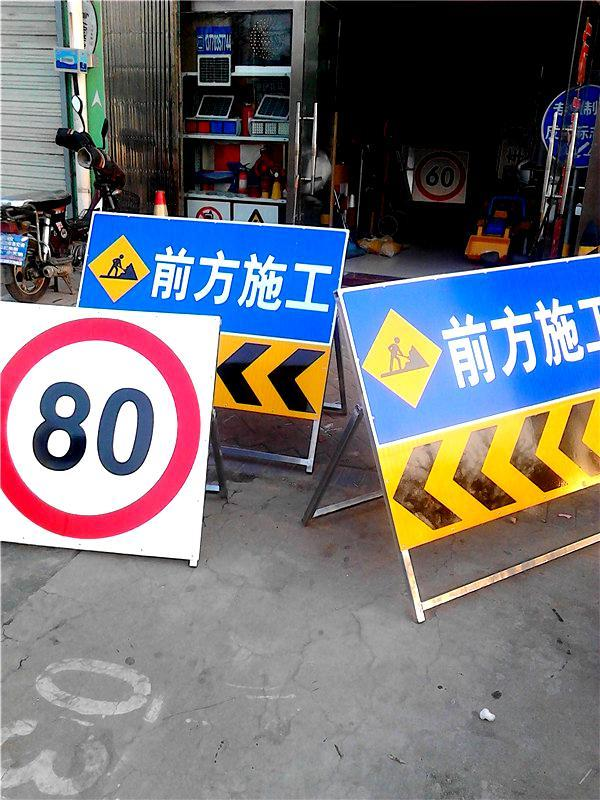sign: (336, 235, 600, 548), (66, 199, 336, 424)
